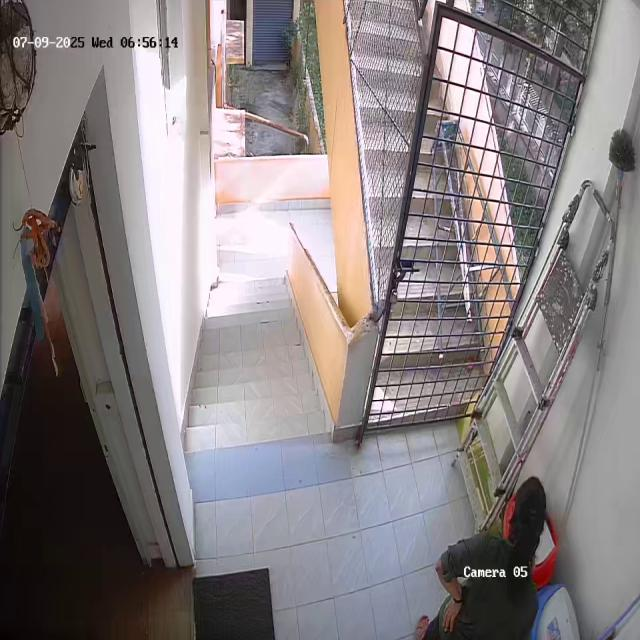person: (427, 478, 550, 640)
